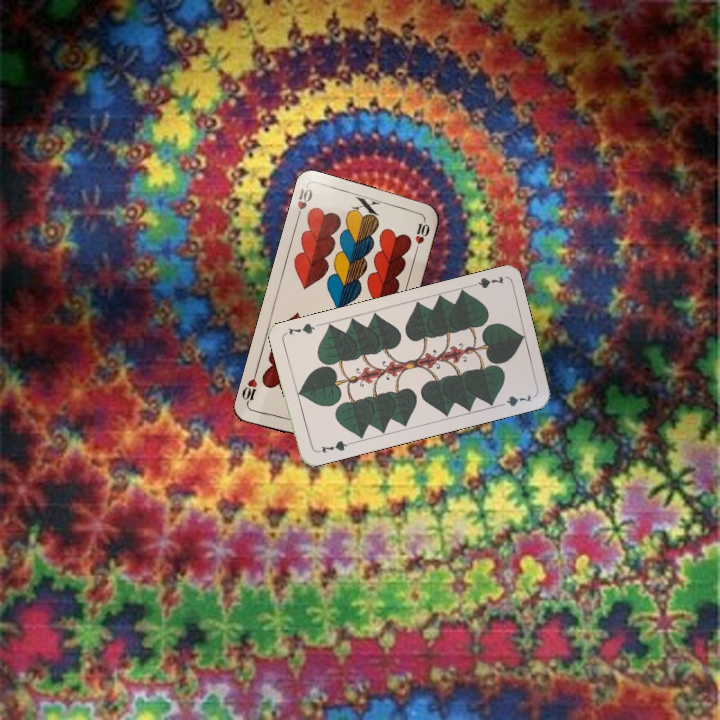G7: (313, 436, 353, 456), (465, 272, 506, 291)
H10: (292, 183, 315, 223)
